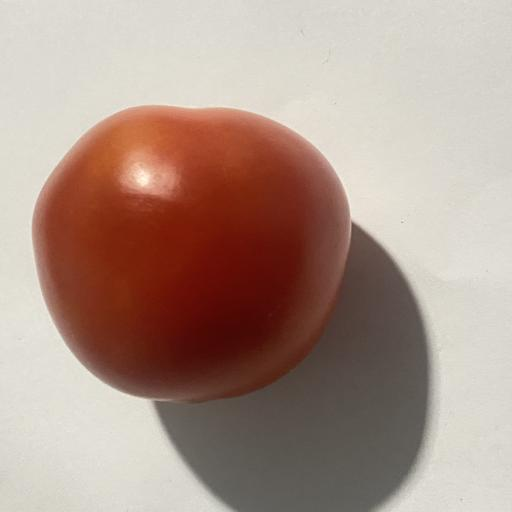ripe: (32, 106, 351, 403)
